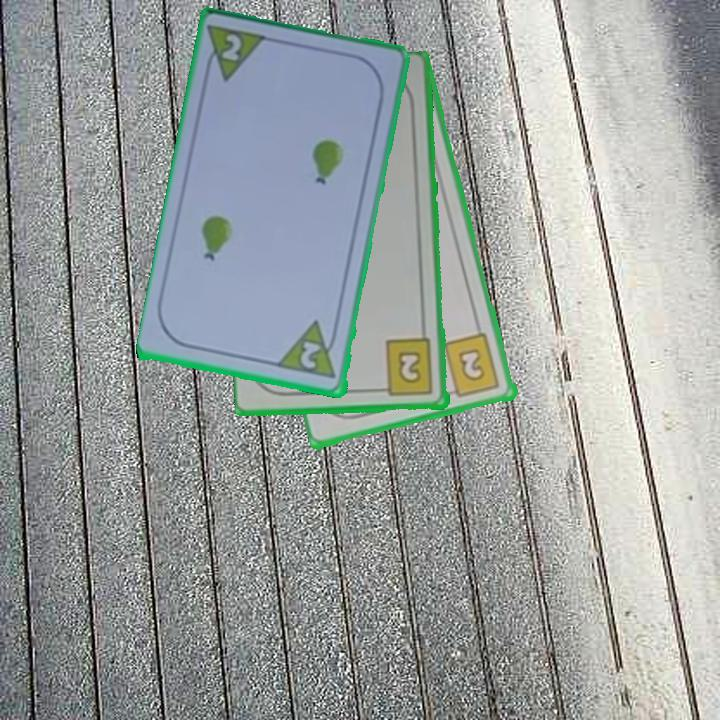2b: (441, 331, 503, 401), (375, 336, 436, 399)
2p: (296, 338, 325, 373), (218, 30, 245, 65)
